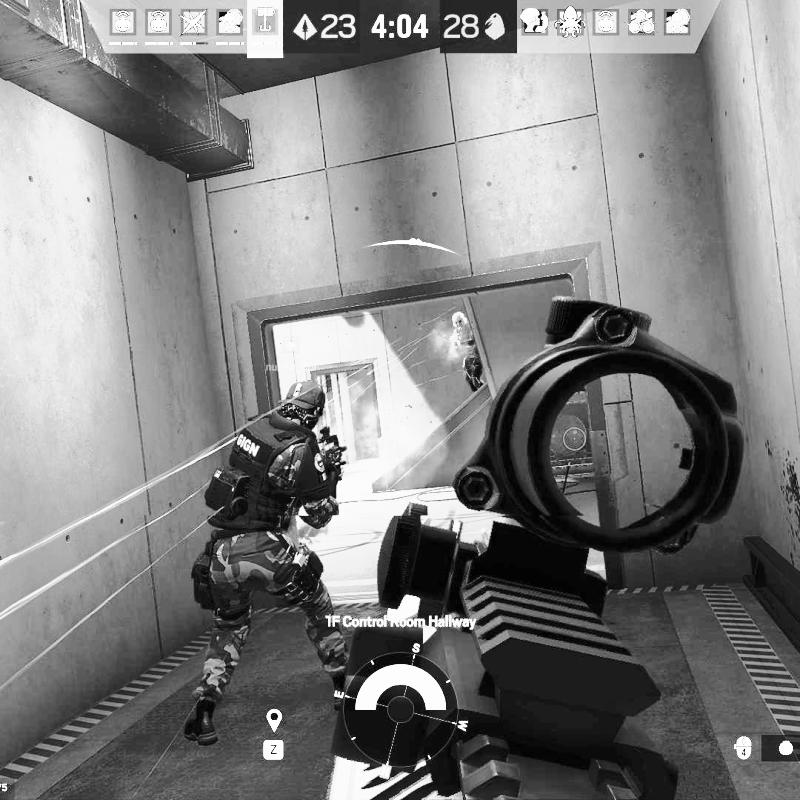Character: (182, 377, 355, 746), (449, 310, 485, 396)
Friend_label: (265, 335, 316, 372)
Head: (282, 379, 327, 428), (451, 310, 468, 329)
